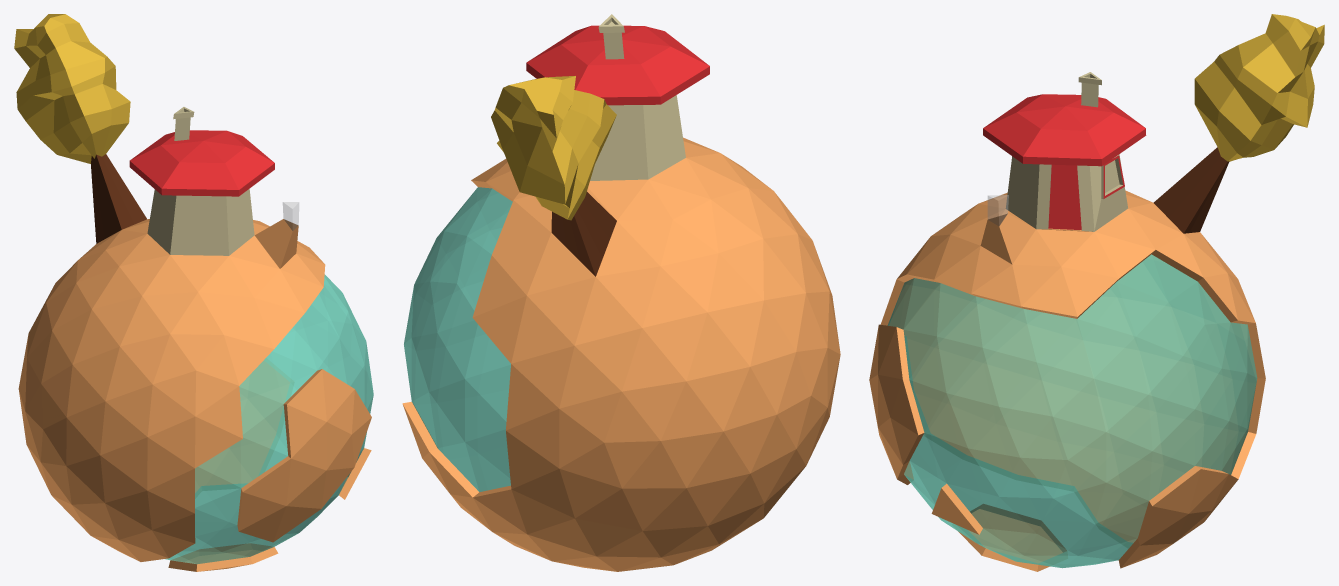
The model's file is autumn-planet-task7-cart263.gltf.
3 views of the same model, side by side, from view 1: azimuth 30°, elevation 25°; view 2: azimuth 150°, elevation 25°; view 3: azimuth 270°, elevation 25° (orthographic). The views are drawn at different scales.
Visible parts, largest first — view 1: autumn-planet; view 2: autumn-planet; view 3: autumn-planet.
Boxes of the visible parts, left/top/right/bottom form: autumn-planet: left=14, top=14, right=373, bottom=571; autumn-planet: left=402, top=14, right=840, bottom=571; autumn-planet: left=869, top=14, right=1324, bottom=571.
Size of the model in its own units: 1.96 by 2.87 by 2.3.
